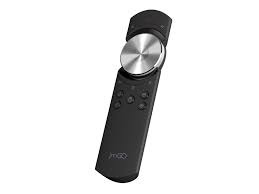remote control: (92, 9, 175, 186)
